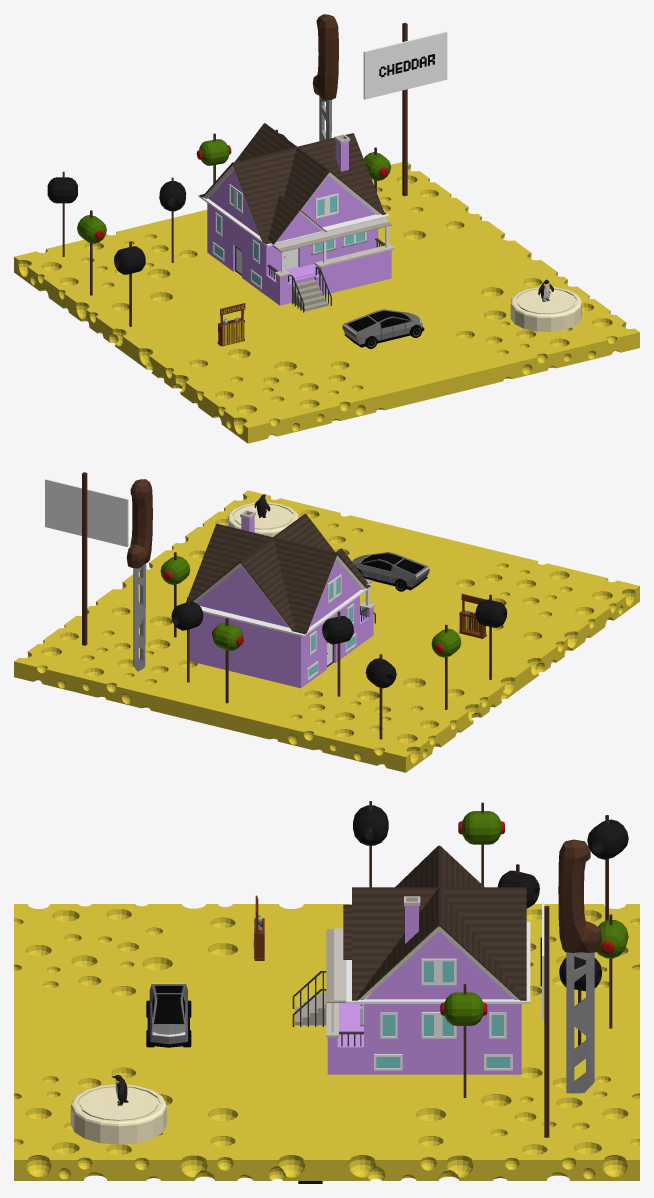
The picture shows the model from 3 angles, top to bottom: view 1: azimuth 30°, elevation 25°; view 2: azimuth 150°, elevation 25°; view 3: azimuth 270°, elevation 25°; orthographic projection. The views are drawn at different scales.
Parts seen in each view (by area): view 1: Cube.022, Cube.391, Cube.023, Cylinder.016, Cube.024, VEHICLES_CYBERTRUCK, Sphere.017, Sphere.016, OBJRANDOM_LEMONADE_STAND, Sphere.020, Sphere.018, Sphere.022 (+1 smaller); view 2: Cube.022, Cube.391, Cube.023, Cube.024, VEHICLES_CYBERTRUCK, Cylinder.016, Sphere.020, Sphere.016, Sphere.022, Sphere.017, Sphere.021, Sphere.018 (+2 smaller); view 3: Cube.022, Cube.391, Cube.024, Cylinder.016, VEHICLES_CYBERTRUCK, Cube.023, Sphere.019, Sphere.016, Sphere.018, Sphere.017, Sphere.022, Sphere.020 (+2 smaller).
Part boxes in pixels (x1,y1,x2,y2): Cube.022: (14, 162, 639, 443); Cube.391: (198, 123, 394, 312); Cube.023: (363, 22, 447, 196); Cylinder.016: (510, 287, 581, 331); Cube.024: (312, 14, 338, 141); VEHICLES_CYBERTRUCK: (342, 309, 424, 348); Sphere.017: (114, 241, 145, 326); Sphere.016: (47, 171, 77, 256); OBJRANDOM_LEMONADE_STAND: (217, 303, 245, 346); Sphere.020: (159, 177, 186, 262); Sphere.018: (77, 210, 106, 295); Sphere.022: (196, 133, 231, 183); Cube.022: (14, 490, 639, 772); Cube.391: (185, 510, 375, 688); Cube.023: (45, 472, 128, 645); Cube.024: (126, 479, 152, 671); VEHICLES_CYBERTRUCK: (352, 552, 429, 591); Cylinder.016: (227, 502, 298, 537); Sphere.020: (322, 611, 353, 696); Sphere.016: (365, 654, 396, 739); Sphere.022: (212, 618, 243, 703); Sphere.017: (475, 594, 507, 679); Sphere.021: (171, 597, 203, 682); Sphere.018: (431, 624, 461, 709); Cube.022: (14, 904, 639, 1180); Cube.391: (292, 845, 530, 1074); Cube.024: (558, 839, 601, 1093); Cylinder.016: (70, 1084, 166, 1144); VEHICLES_CYBERTRUCK: (146, 983, 191, 1047); Cube.023: (540, 902, 549, 1137); Sphere.019: (440, 984, 487, 1097); Sphere.016: (587, 815, 628, 920); Sphere.018: (458, 802, 504, 885); Sphere.017: (353, 801, 388, 887); Sphere.022: (597, 914, 628, 1028); Sphere.020: (497, 864, 539, 908).
Bounding box in the file's own units: 3917 × 2015 × 4000.
Materials: 37 (3 with a texture image).
